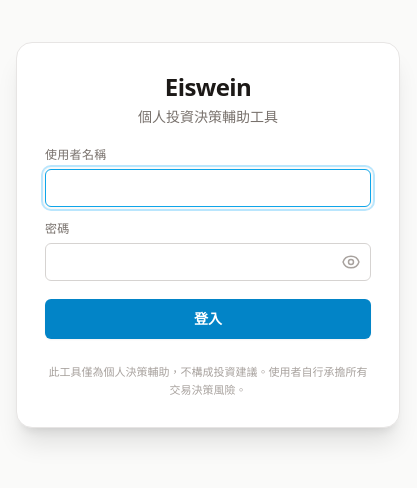
Test: LoginPage › validates both required fields
Step 1. Click the button "登入" → (208, 319), box [45, 299, 371, 339]
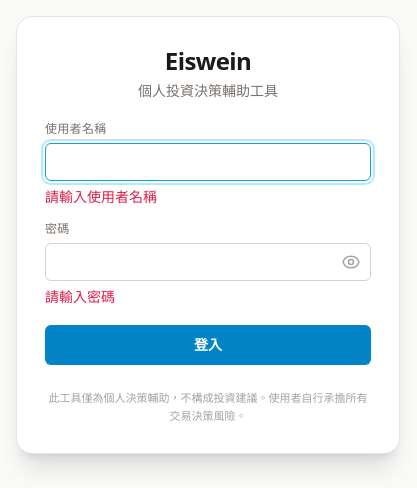
Result: the text "請輸入使用者名稱" is shown at [45, 187, 157, 206]
Result: the text "請輸入密碼" is shown at [45, 287, 115, 306]
